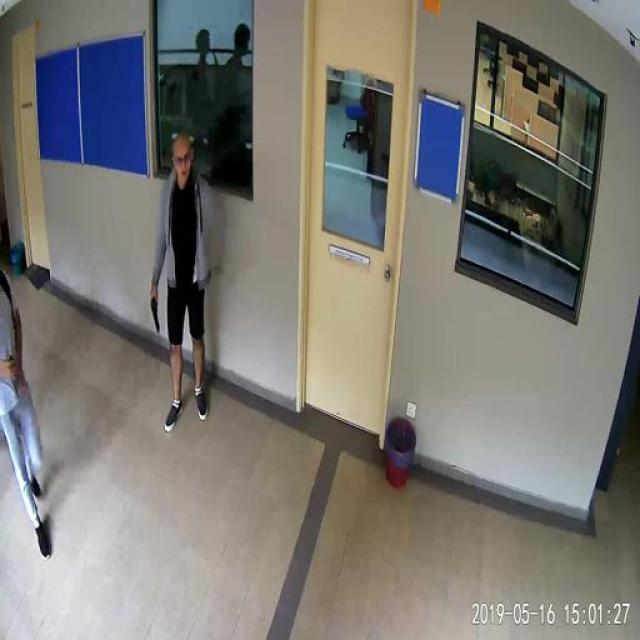Gun: (142, 282, 166, 340)
